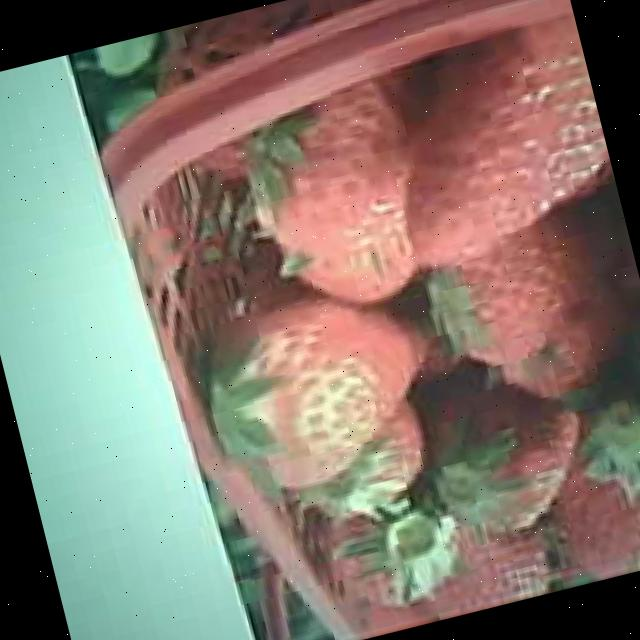strawberry: (366, 16, 620, 258), (196, 274, 447, 498)
